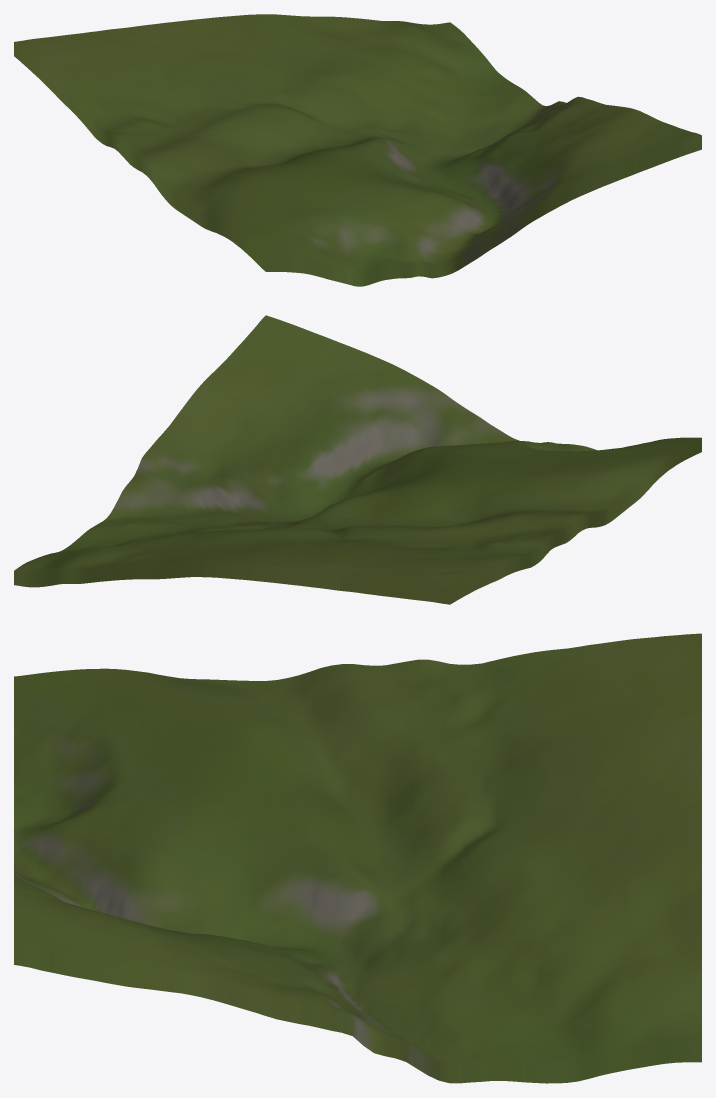
The model's file is terrain_8_-9.glb.
The picture shows the model from 3 angles, top to bottom: view 1: azimuth 30°, elevation 25°; view 2: azimuth 150°, elevation 25°; view 3: azimuth 270°, elevation 25°; orthographic projection. The views are drawn at different scales.
Visible parts, largest first — view 1: terrain_8_-9; view 2: terrain_8_-9; view 3: terrain_8_-9.
Part boxes in pixels (x1=…): terrain_8_-9: x1=14, y1=14, x2=701, y2=286; terrain_8_-9: x1=14, y1=315, x2=701, y2=604; terrain_8_-9: x1=14, y1=633, x2=701, y2=1083.
Bounding box in the file's own units: 256 × 65.38 × 256.
